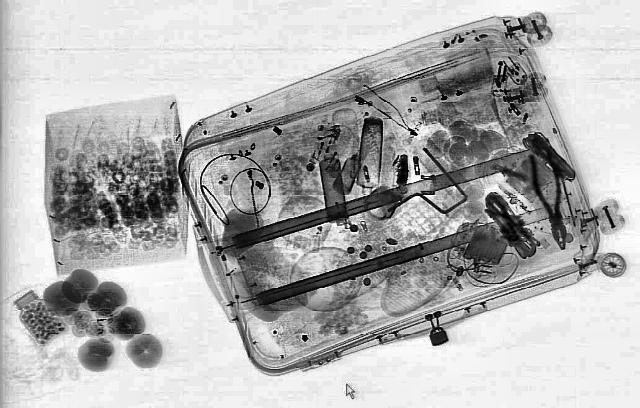Pliers: (524, 154, 578, 251)
